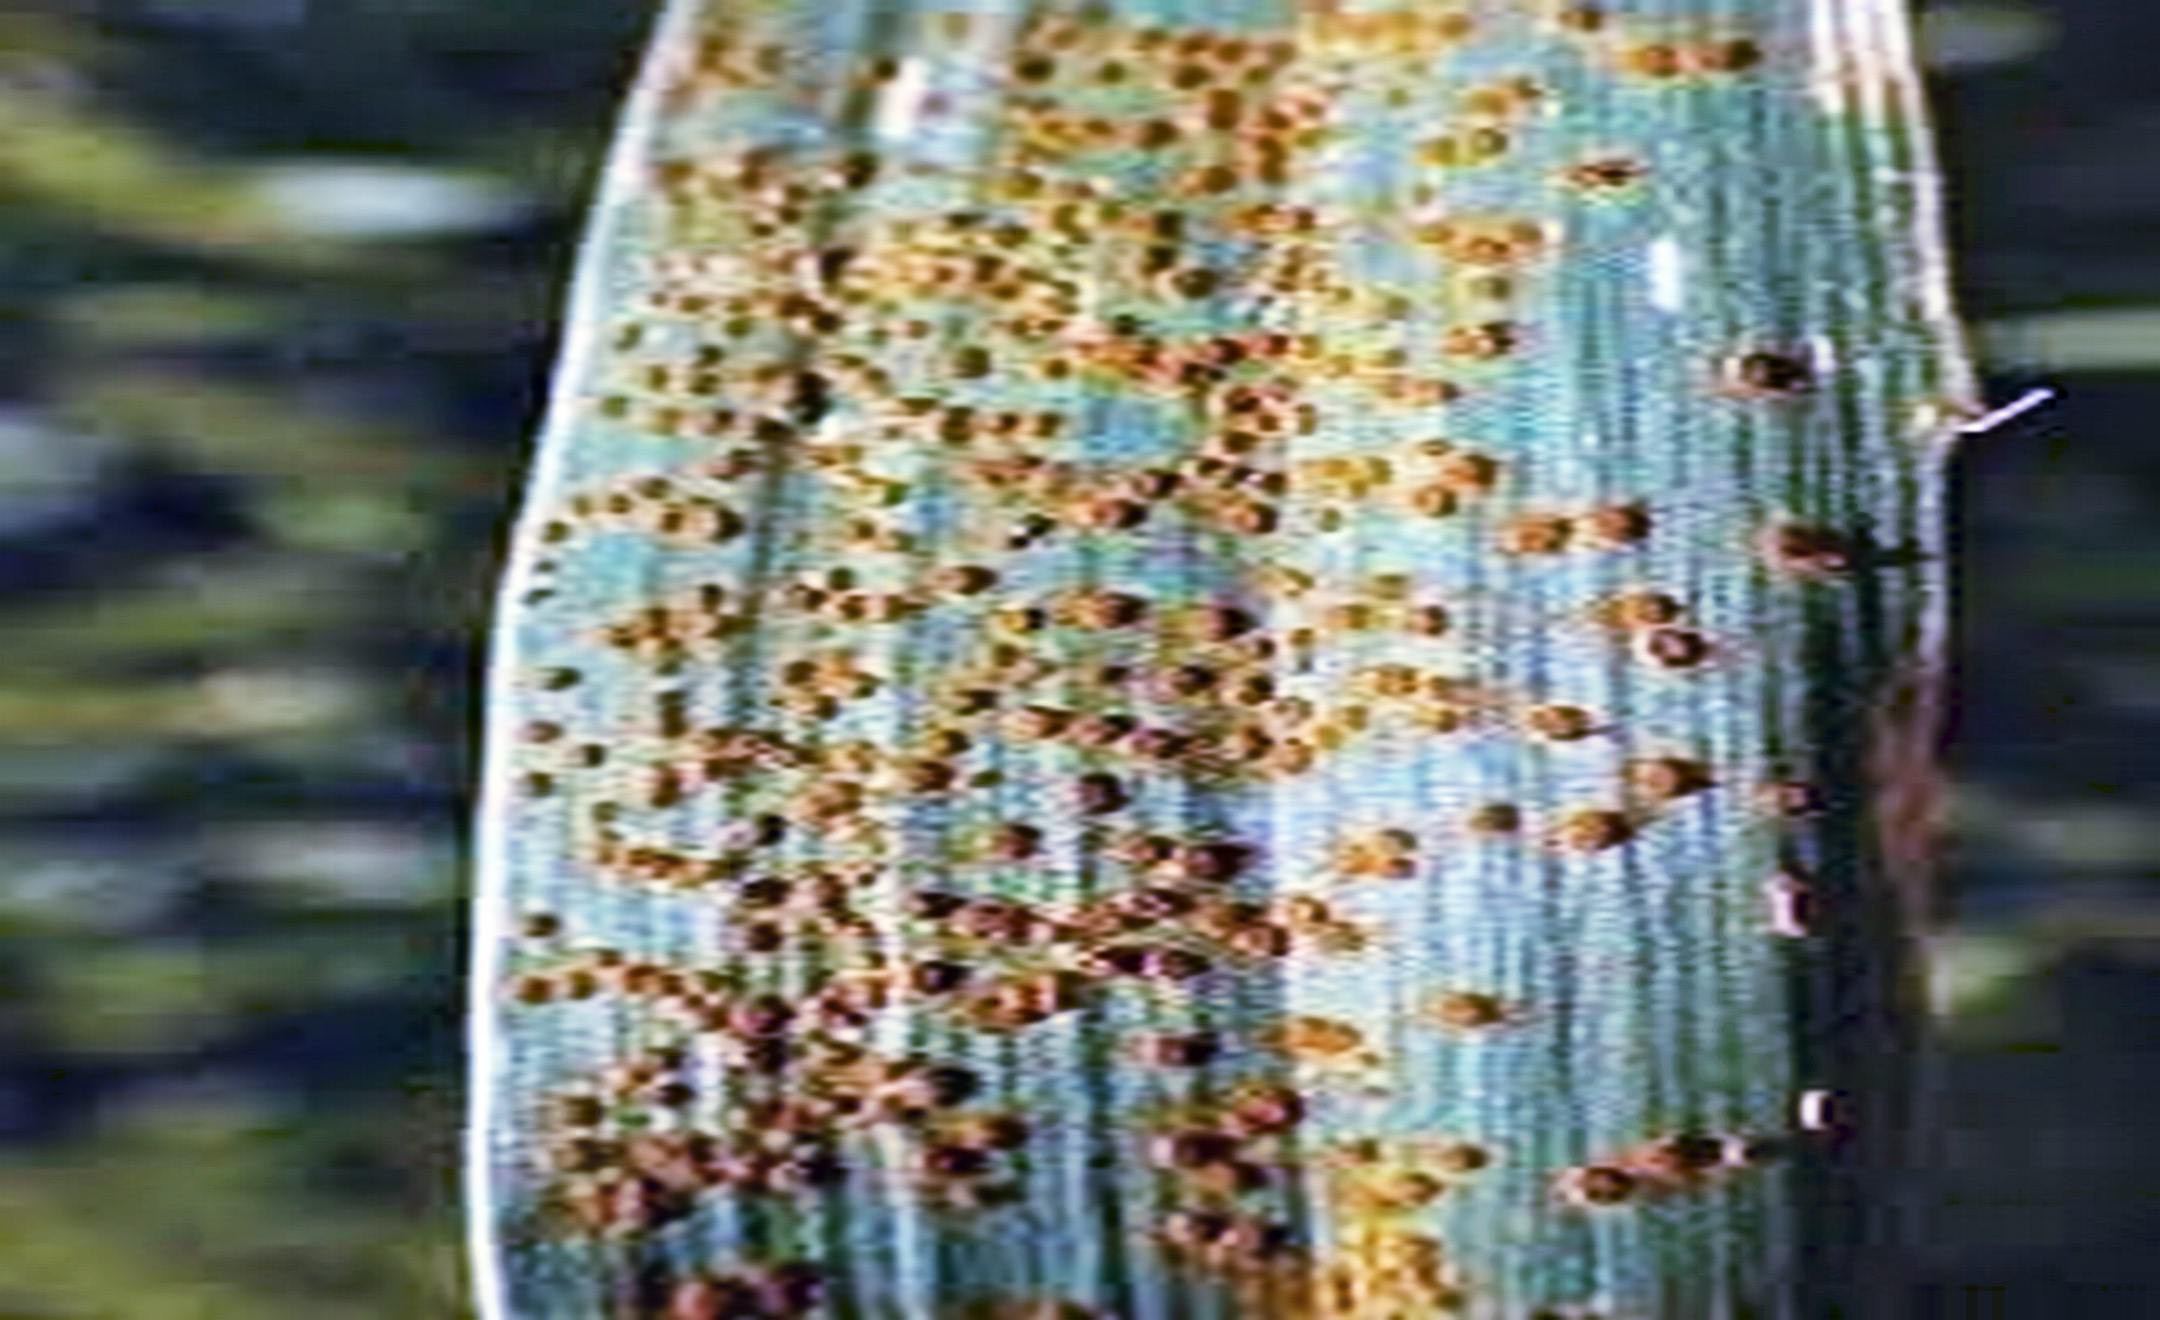Leaf Rust: (549, 165, 1751, 1306)
